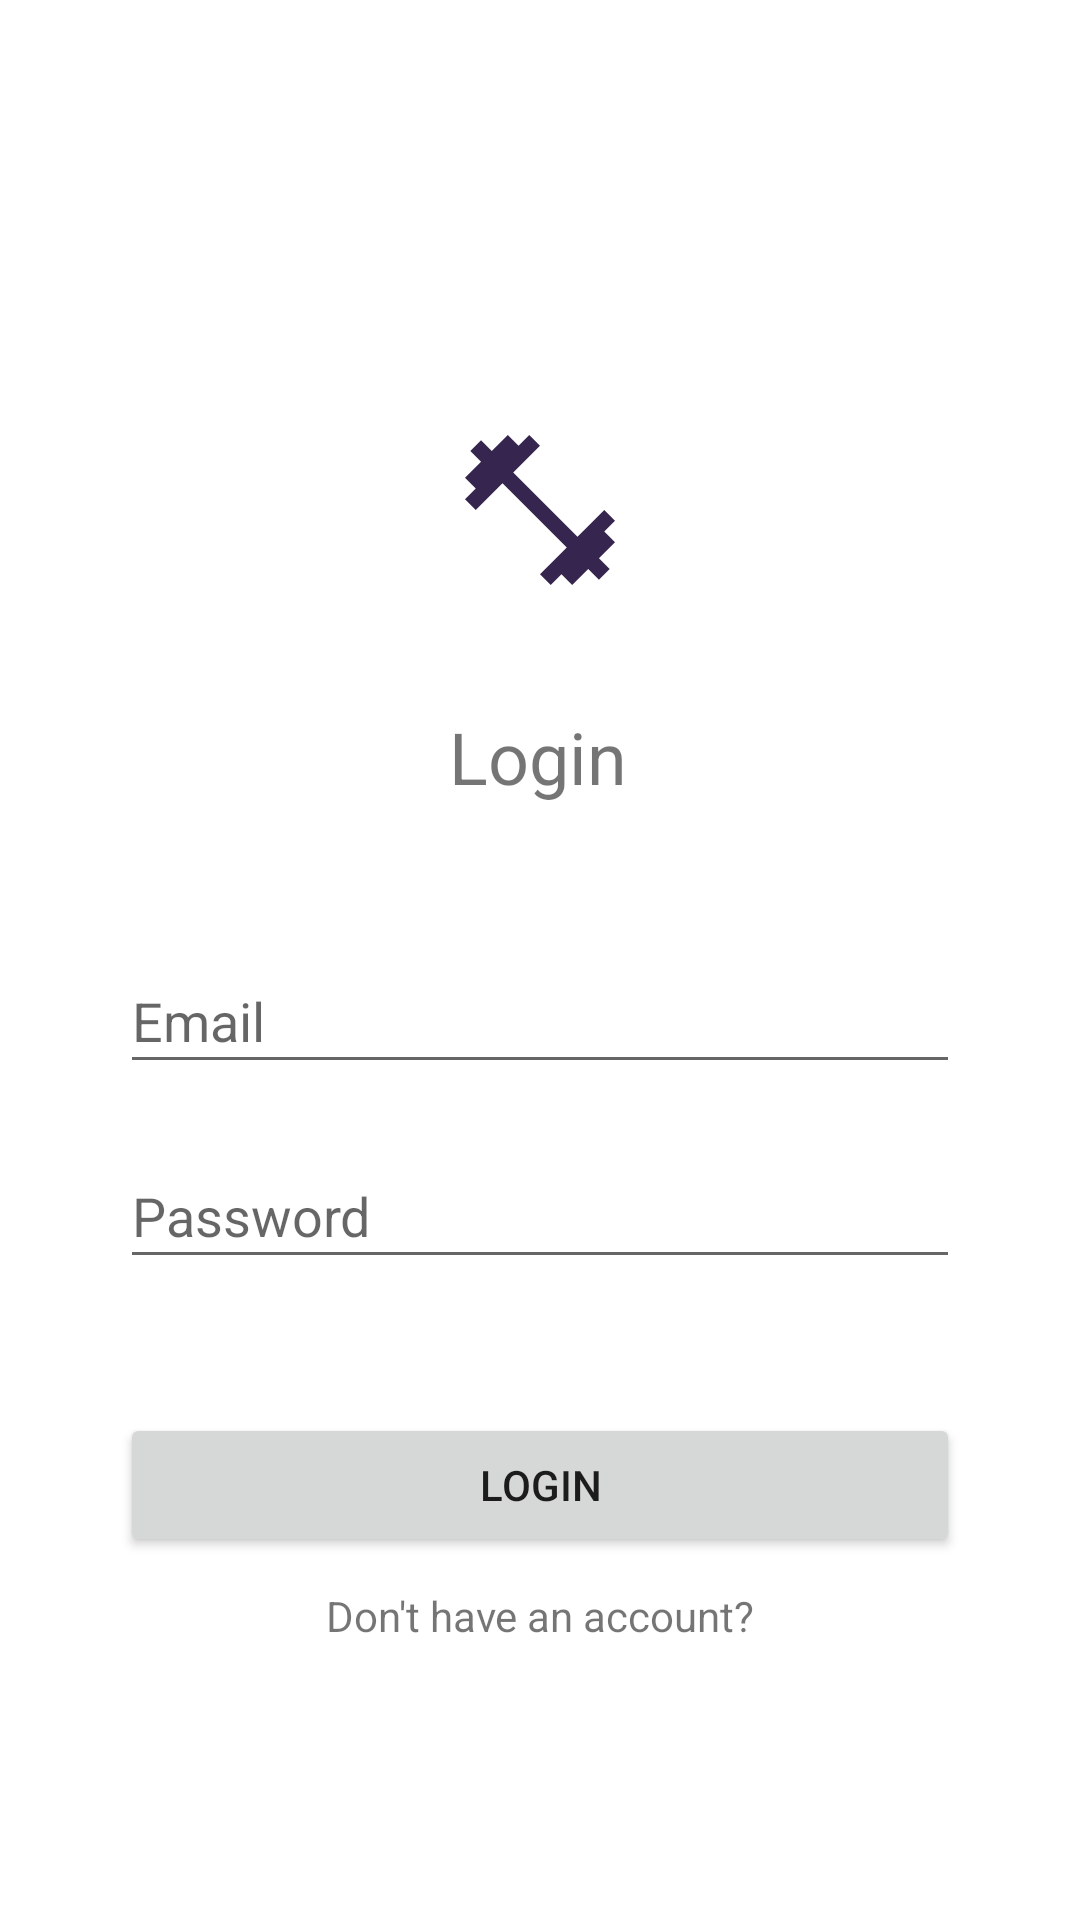

Screen size 1080×1920. Icon name, then its box in pixels as (x1, y1, x2, y2):
fitness center: (465, 435, 615, 585)
